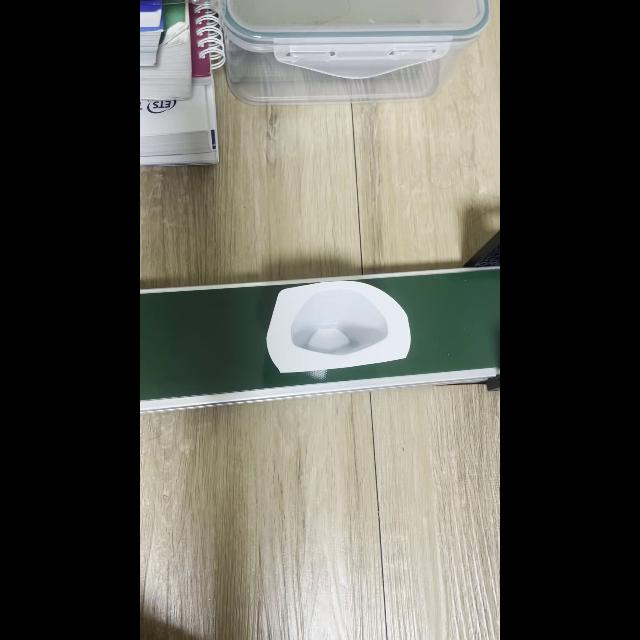clean: (266, 281, 410, 374)
